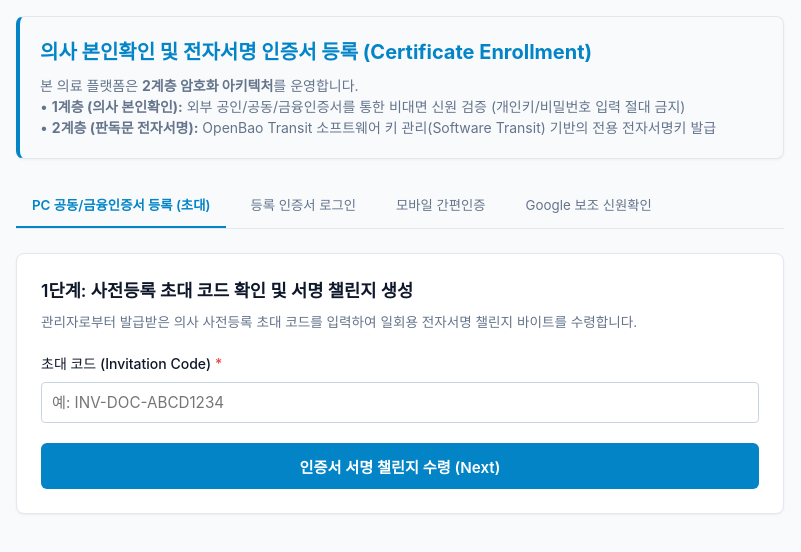
Test case: Definitive Certificate Enrollment HTTP Contract Tests › 12. CertificateEnrollmentView: mobile start button is disabled when mobile adapter is not configured
Click the button with test id "tab-mobile-cert": {"x": 441, "y": 206} [380,183,502,228]
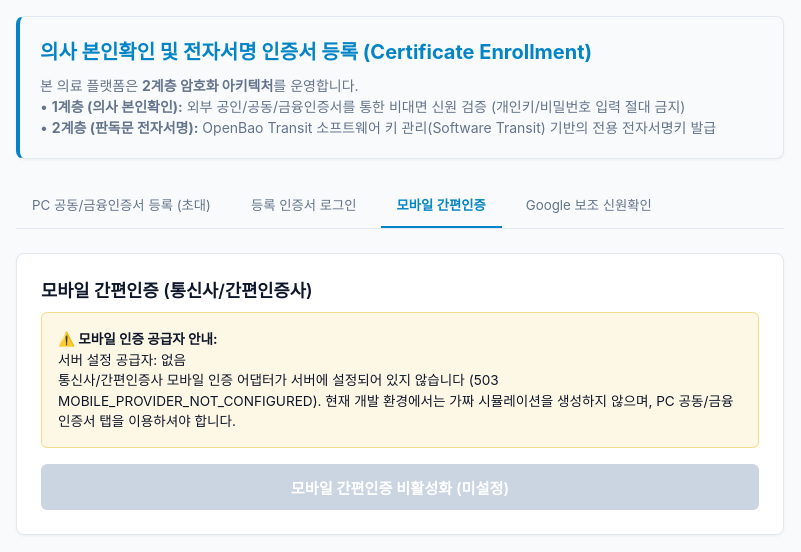
Check: the button with test id "start-mobile-transaction-btn" is disabled, box [41,464,759,510]
Check: the button with test id "start-mobile-transaction-btn" shows "모바일 간편인증 비활성화", box [41,464,759,510]
